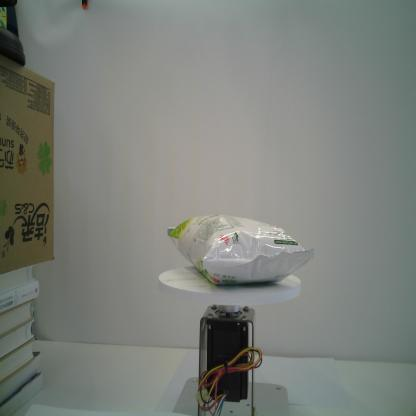Puffed Food: (163, 214, 316, 286)
